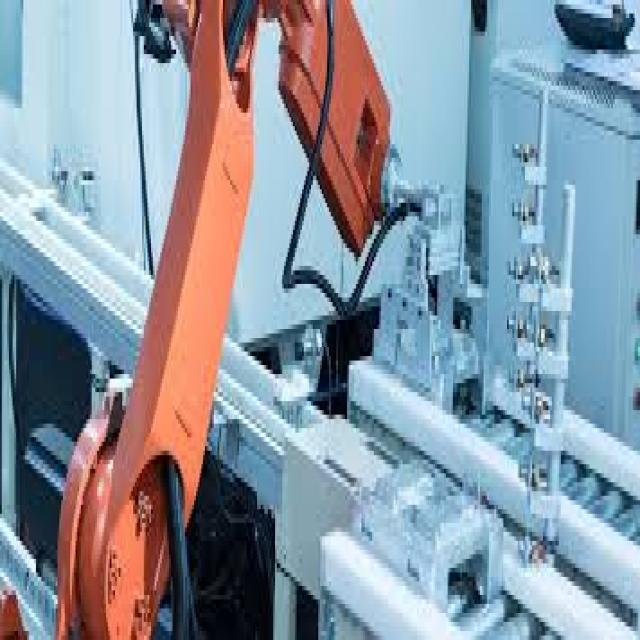Robotic-arm: (60, 0, 395, 640)
